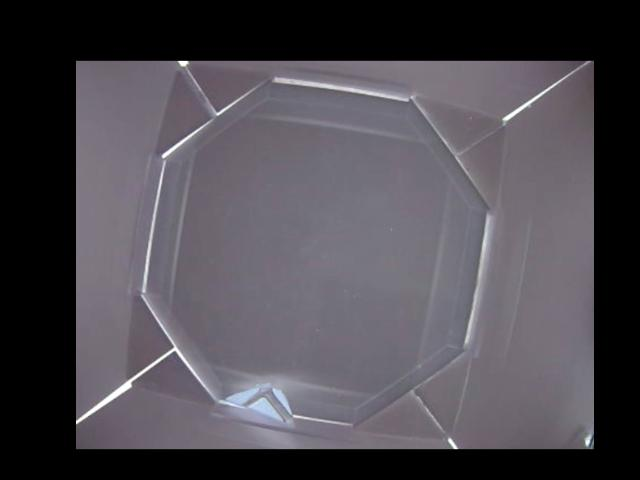China: (216, 384, 292, 424)
